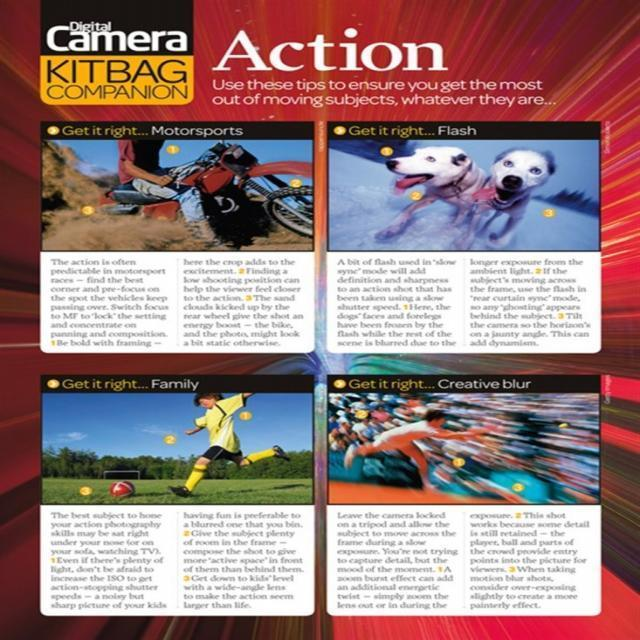ball: (111, 482, 137, 499)
